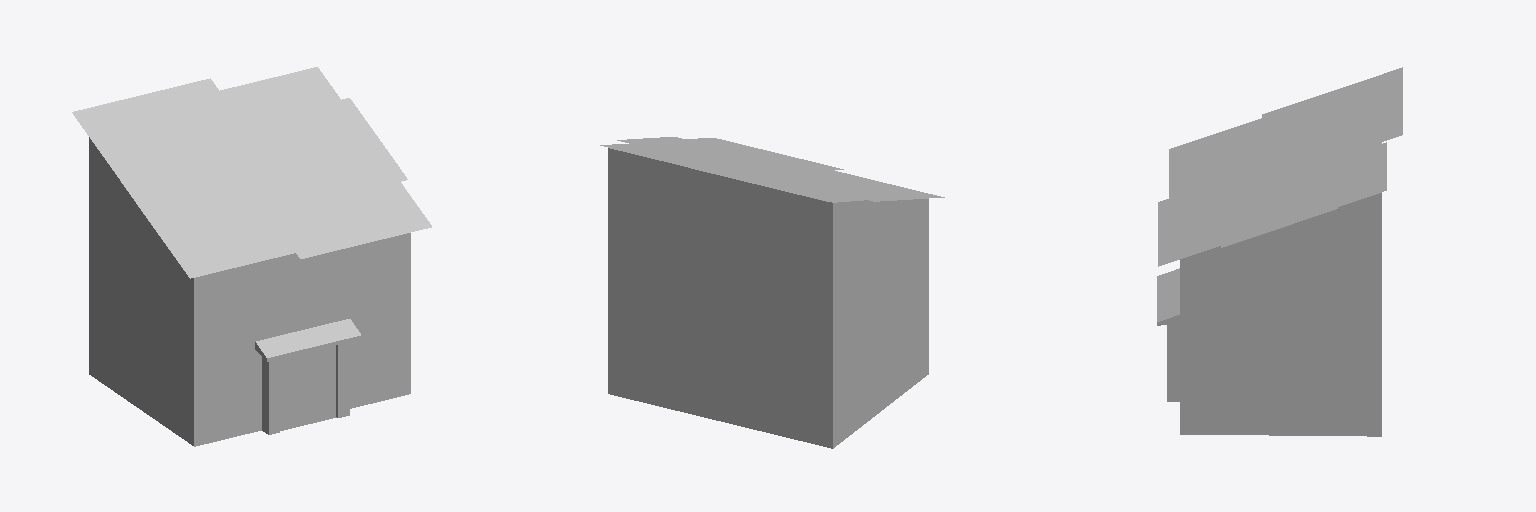
Rendered from hutjewaregrotehopenlijk2.obj.
3 renders of one model, left to right at view 1: azimuth 30°, elevation 25°; view 2: azimuth 150°, elevation 25°; view 3: azimuth 270°, elevation 25°, orthographic.
Visible parts, largest first — view 1: hut1; view 2: hut1; view 3: hut1.
Boxes of the visible parts, x1=… form: hut1: x1=72, y1=67, x2=431, y2=446; hut1: x1=600, y1=137, x2=944, y2=448; hut1: x1=1157, y1=67, x2=1402, y2=436.
Size of the model in its own units: 593 by 593 by 514.